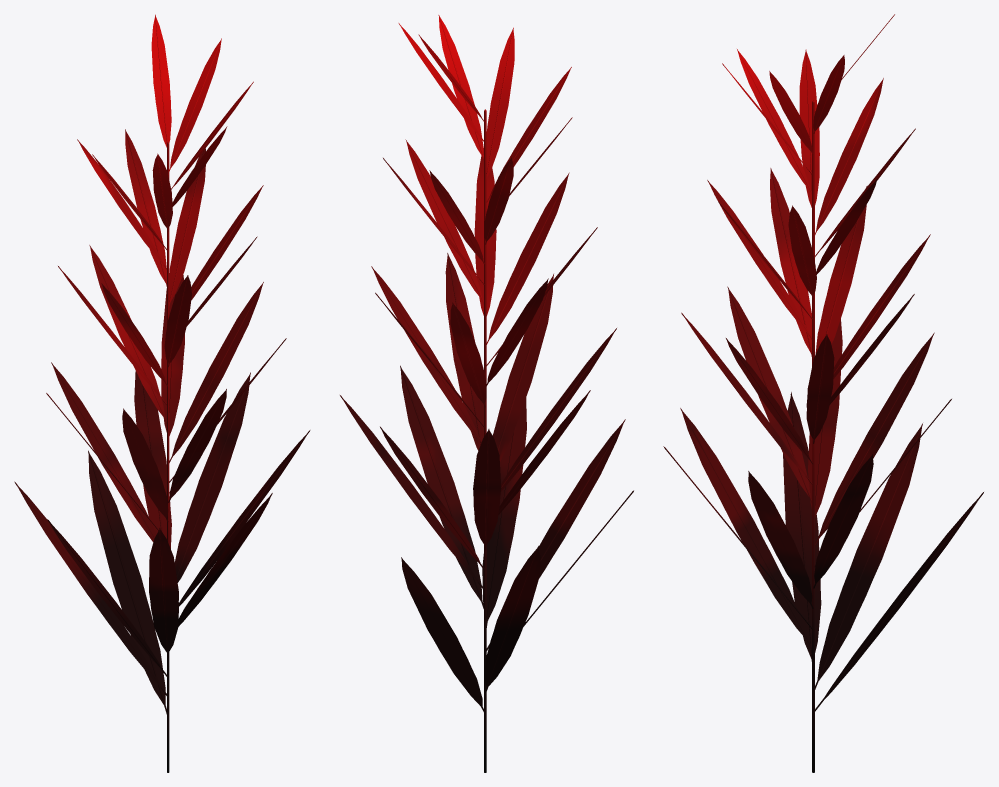
File: SM_Plant_07.FBX
3 views of the same model, side by side, from view 1: azimuth 30°, elevation 25°; view 2: azimuth 150°, elevation 25°; view 3: azimuth 270°, elevation 25° (orthographic). The views are drawn at different scales.
Visible parts, largest first — view 1: plant3; view 2: plant3; view 3: plant3.
Boxes of the visible parts, x1,y1,x2,y2 form: plant3: (14, 14, 310, 772); plant3: (340, 15, 633, 772); plant3: (663, 14, 983, 772).
Bounding box in the file's own units: 42.08 × 120 × 45.12.
